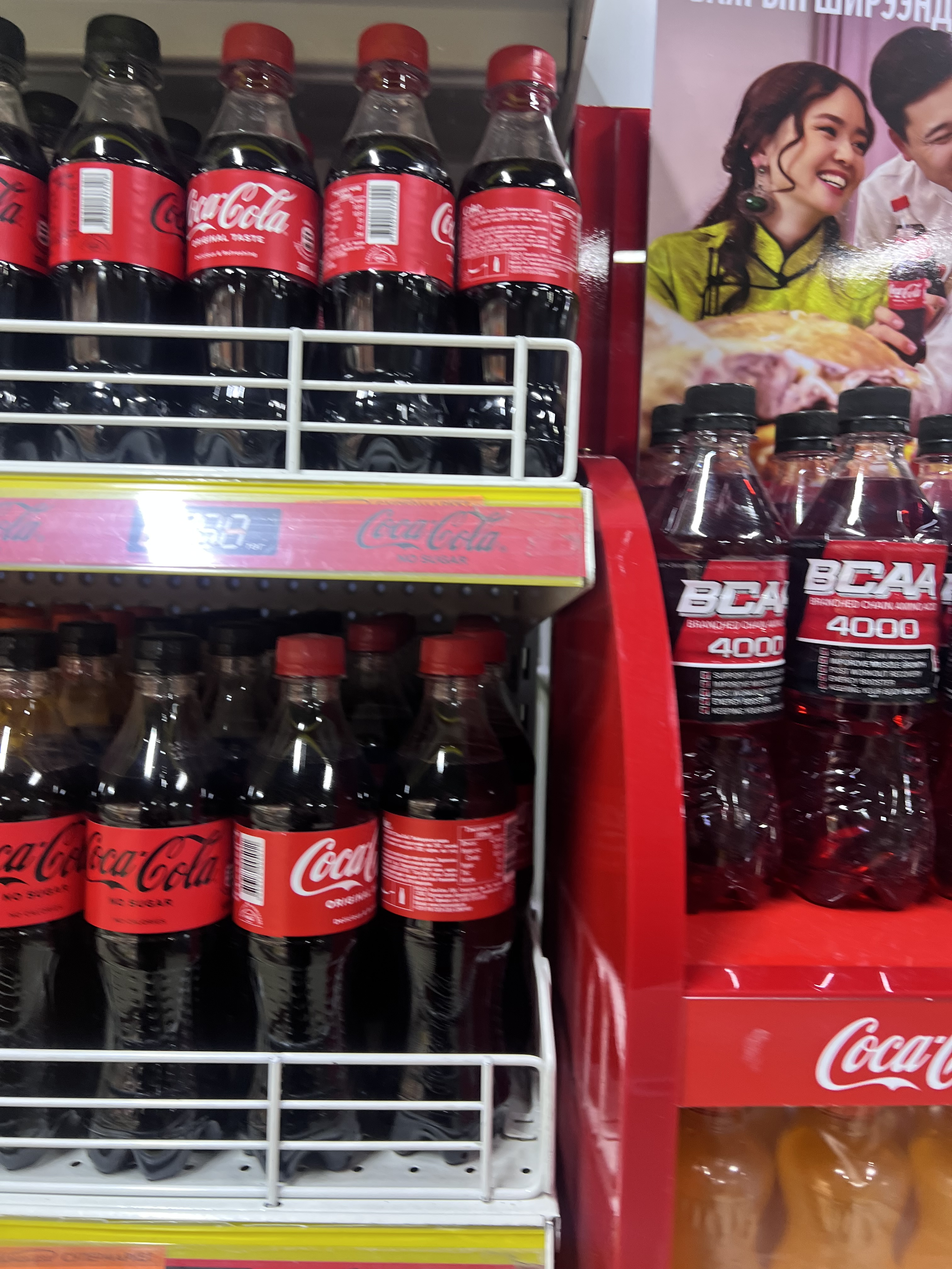coca_cola_500ml: (85, 632, 245, 1051), (234, 634, 378, 1053), (381, 635, 515, 1053), (0, 629, 101, 1048), (49, 14, 184, 326), (186, 22, 320, 329)
